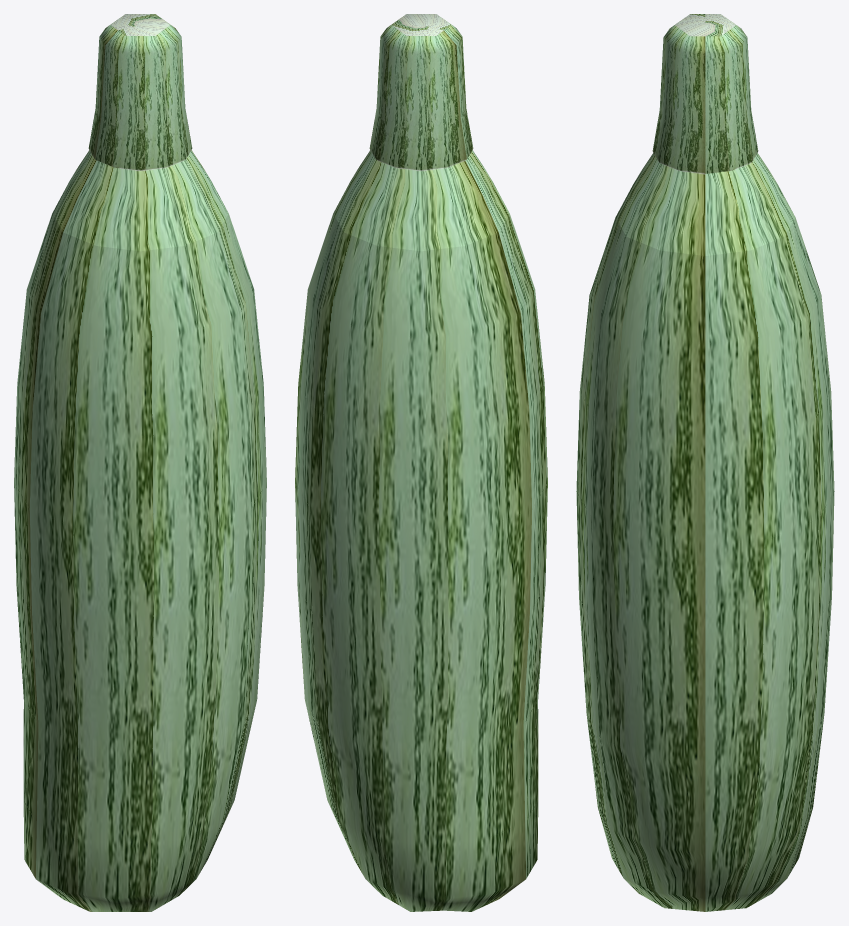
File: zucchini.fbx
3 views of the same model, side by side, from view 1: azimuth 30°, elevation 25°; view 2: azimuth 150°, elevation 25°; view 3: azimuth 270°, elevation 25° (orthographic). The views are drawn at different scales.
Visible parts, largest first — view 1: polySurface2, polySurface1; view 2: polySurface2, polySurface1; view 3: polySurface2, polySurface1.
Part boxes in pixels (left/top/right/bottom): polySurface2: left=14, top=150, right=266, bottom=911; polySurface1: left=88, top=14, right=192, bottom=170; polySurface2: left=295, top=150, right=547, bottom=911; polySurface1: left=369, top=14, right=473, bottom=170; polySurface2: left=576, top=153, right=834, bottom=911; polySurface1: left=652, top=14, right=758, bottom=173.
Bounding box in the file's own units: 0.4543 × 1.69 × 0.4496.
